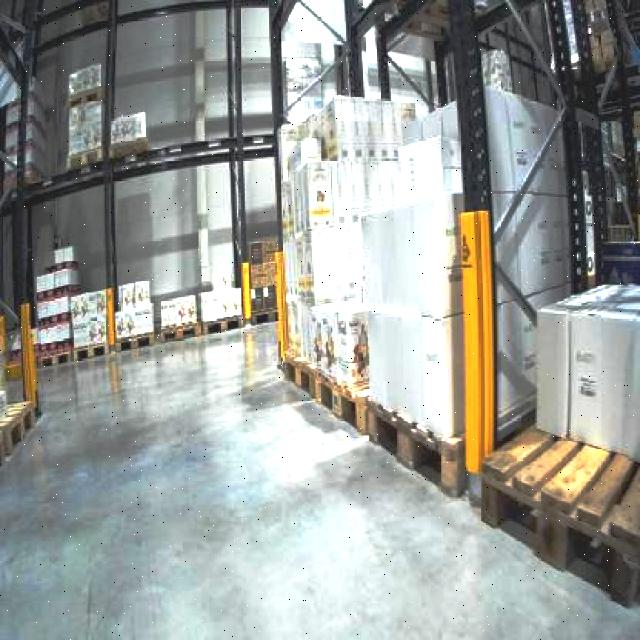ground: (0, 315, 638, 638)
pallet: (272, 0, 638, 637), (478, 418, 638, 620), (13, 276, 278, 381), (280, 352, 466, 497), (0, 294, 38, 495), (0, 394, 35, 483)
